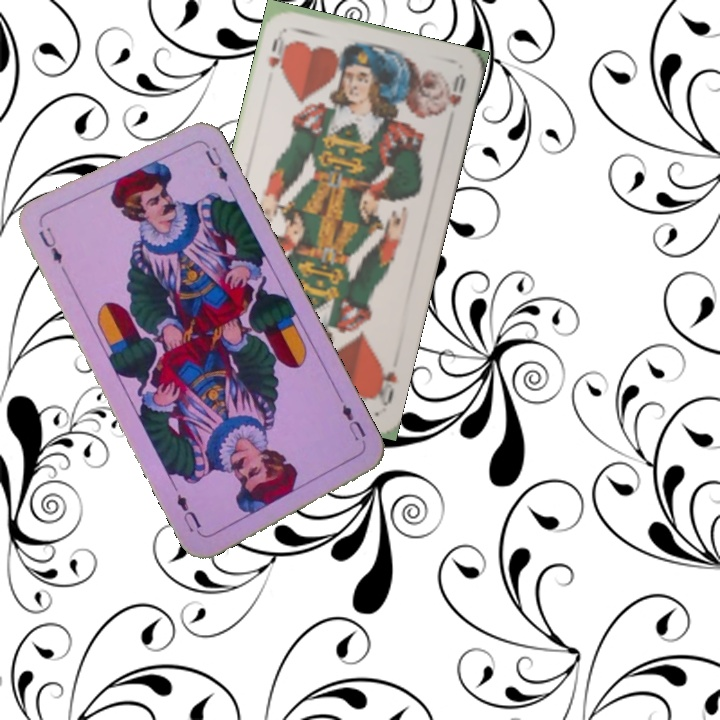EU: (338, 400, 369, 443), (34, 223, 65, 266)
HO: (369, 358, 401, 409), (264, 27, 292, 78)
